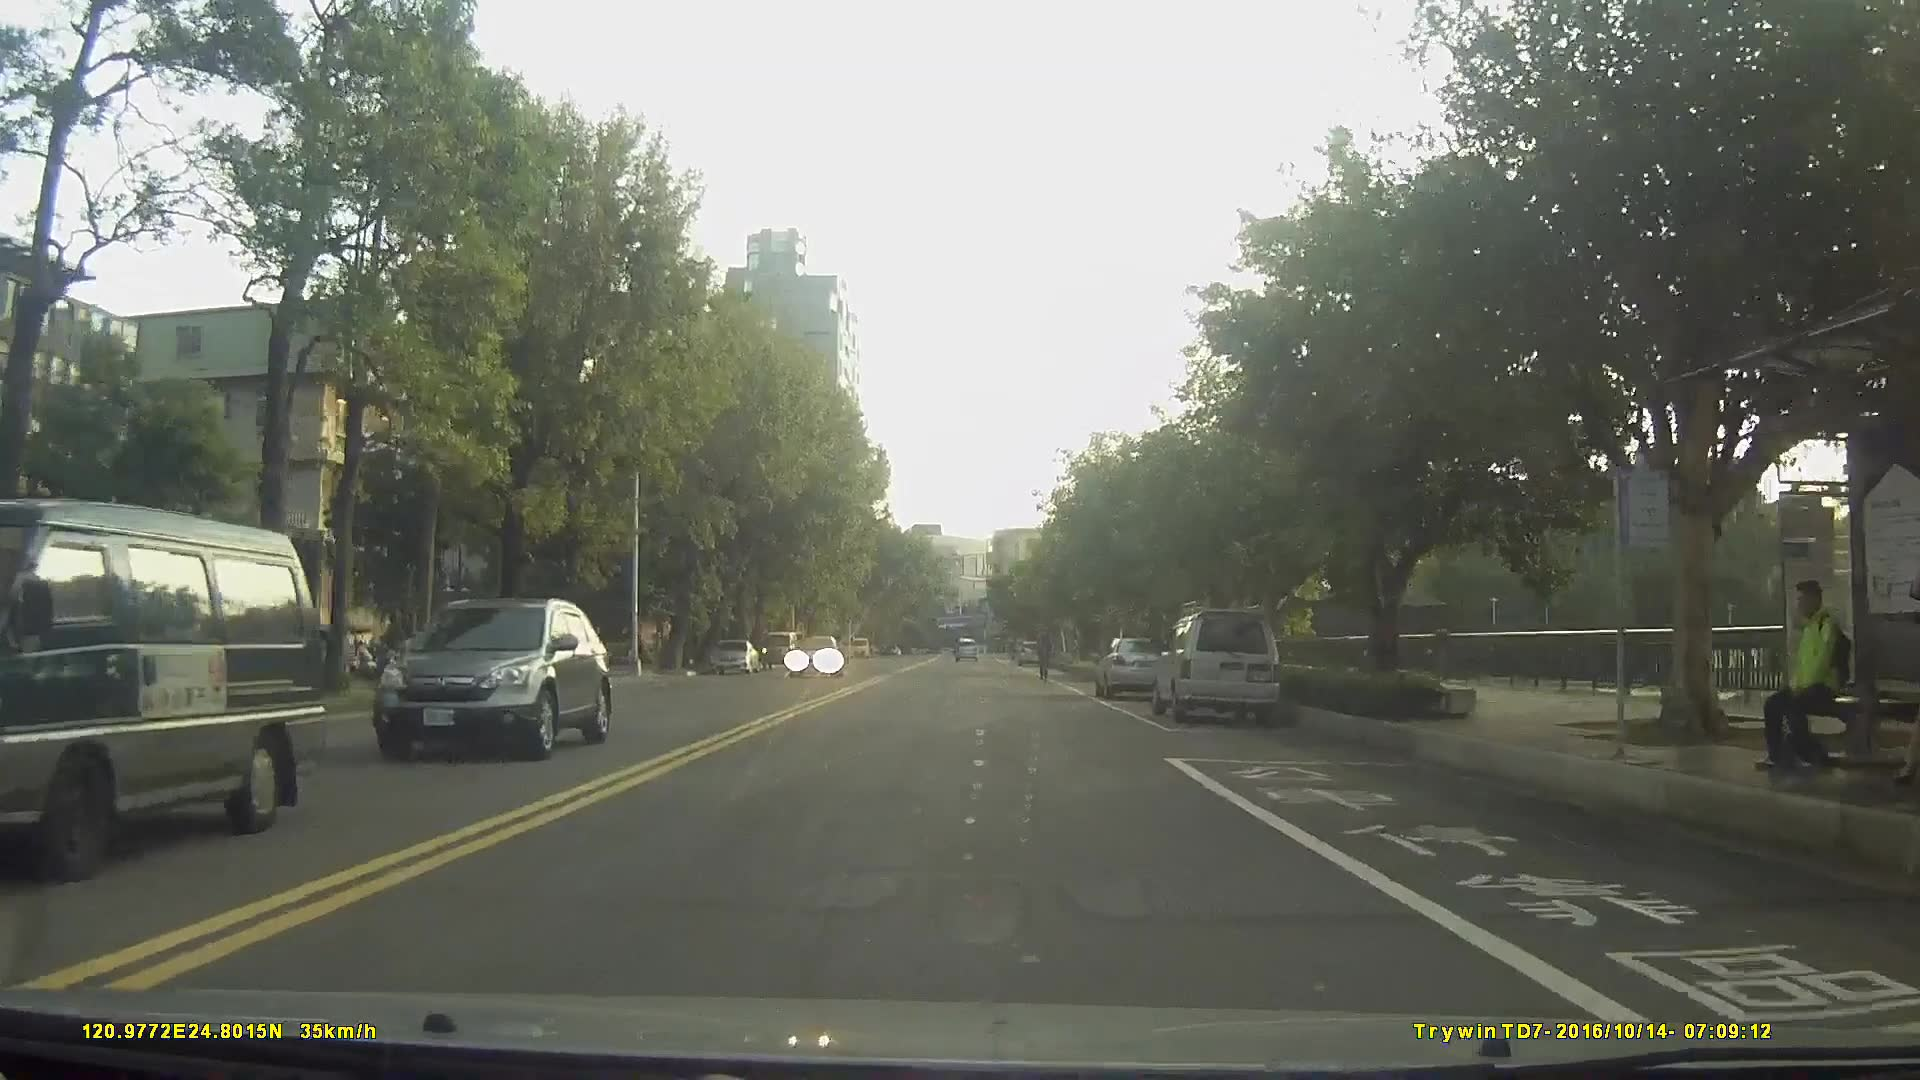pedestrian: (1757, 574, 1868, 790)
rider: (1034, 630, 1054, 687)
vehicle: (0, 497, 328, 878), (370, 595, 615, 760), (1150, 610, 1283, 726), (1095, 634, 1170, 699), (784, 632, 843, 680), (707, 636, 758, 675), (759, 630, 797, 666), (1016, 640, 1044, 668), (952, 635, 979, 661)
